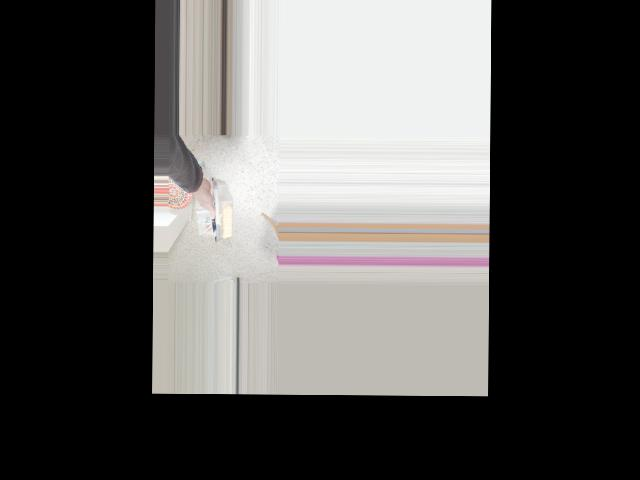cheese: (182, 166, 249, 236)
